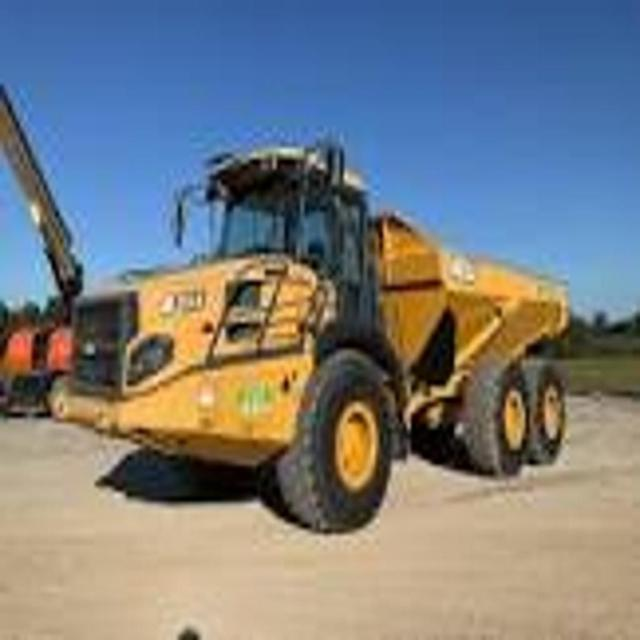dump_truck: (60, 123, 573, 548)
